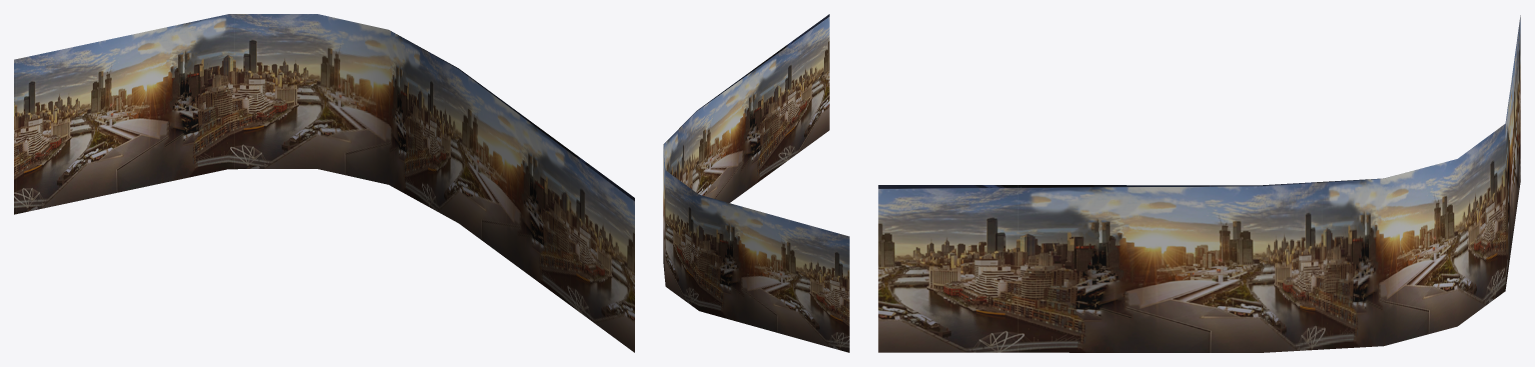
File: NvMingXingJia_03_tiankonghexiawu.FBX
The picture shows the model from 3 angles, left to right: view 1: azimuth 30°, elevation 25°; view 2: azimuth 150°, elevation 25°; view 3: azimuth 270°, elevation 25°; orthographic projection. The views are drawn at different scales.
Visible parts, largest first — view 1: Plane014; view 2: Plane014; view 3: Plane014.
Boxes of the visible parts, left/top/right/bottom form: Plane014: left=14, top=14, right=634, bottom=352; Plane014: left=663, top=14, right=849, bottom=352; Plane014: left=878, top=15, right=1520, bottom=352.
Bounding box in the file's own units: 10235 × 4673 × 16219.
1 material, 1 textured.
